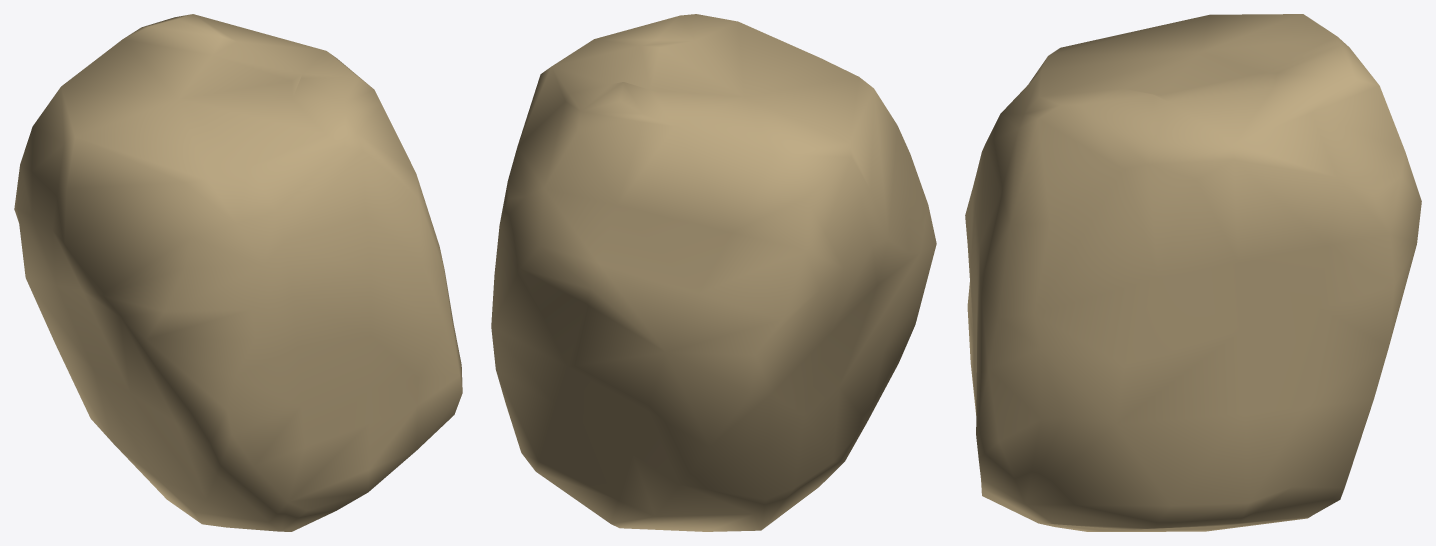
The model's file is rock_04_low.fbx.
3 renders of one model, left to right at view 1: azimuth 30°, elevation 25°; view 2: azimuth 150°, elevation 25°; view 3: azimuth 270°, elevation 25°, orthographic. The views are drawn at different scales.
Visible parts, largest first — view 1: rock_04_low; view 2: rock_04_low; view 3: rock_04_low.
Boxes of the visible parts, <box> form: rock_04_low: <box>14,14,462,531</box>; rock_04_low: <box>491,14,936,531</box>; rock_04_low: <box>965,14,1421,531</box>.
Bounding box in the file's own units: 153 × 185 × 157.
